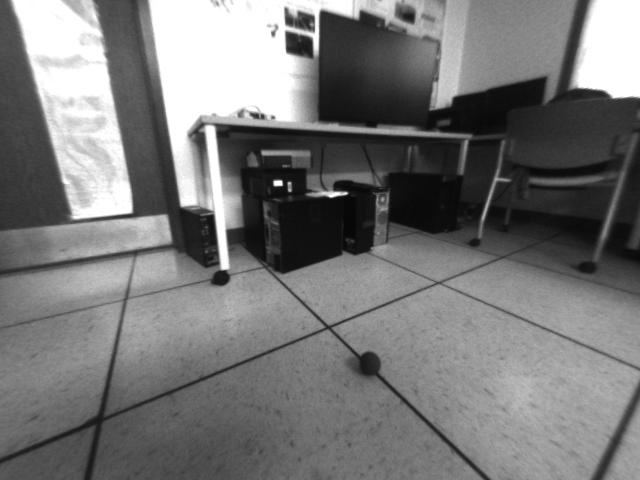dogtoy: (351, 341, 390, 380)
